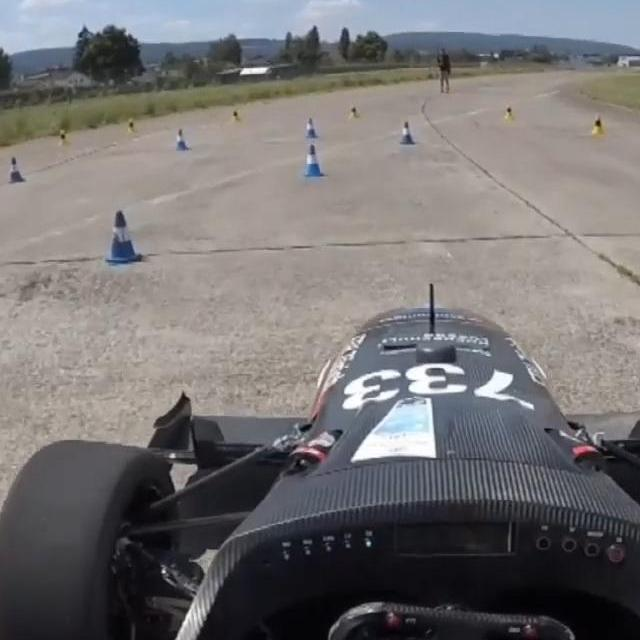NO-Safety Vest: (439, 56, 449, 73)
Person: (438, 48, 452, 91)
Safety Cone: (103, 213, 148, 269), (300, 143, 326, 183), (7, 153, 28, 186), (399, 120, 418, 149), (173, 128, 191, 154), (302, 116, 319, 141), (591, 113, 607, 138), (56, 128, 72, 150), (125, 115, 138, 136), (231, 106, 243, 126), (347, 103, 360, 120), (504, 104, 515, 122)
vehicle: (0, 278, 640, 640)
